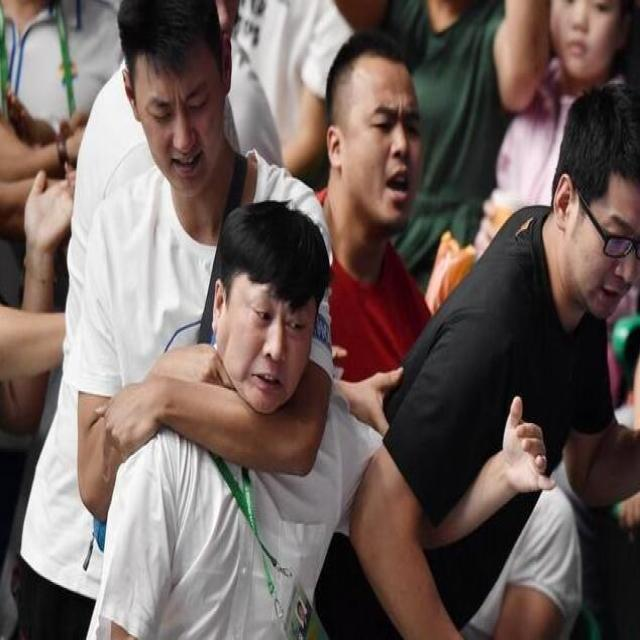fight: (72, 1, 342, 518)
